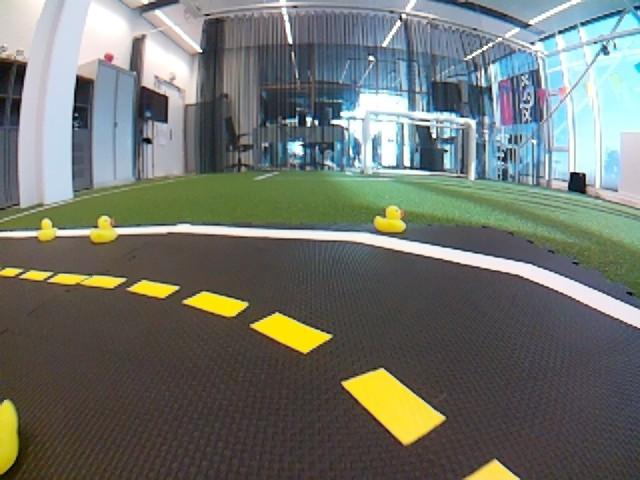Duckies: (0, 397, 19, 479), (375, 206, 406, 232), (90, 215, 119, 241), (38, 219, 58, 240)
